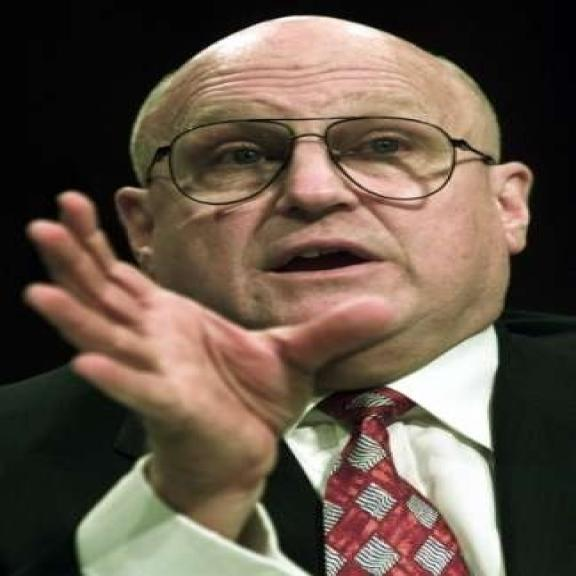face: (107, 27, 541, 364)
